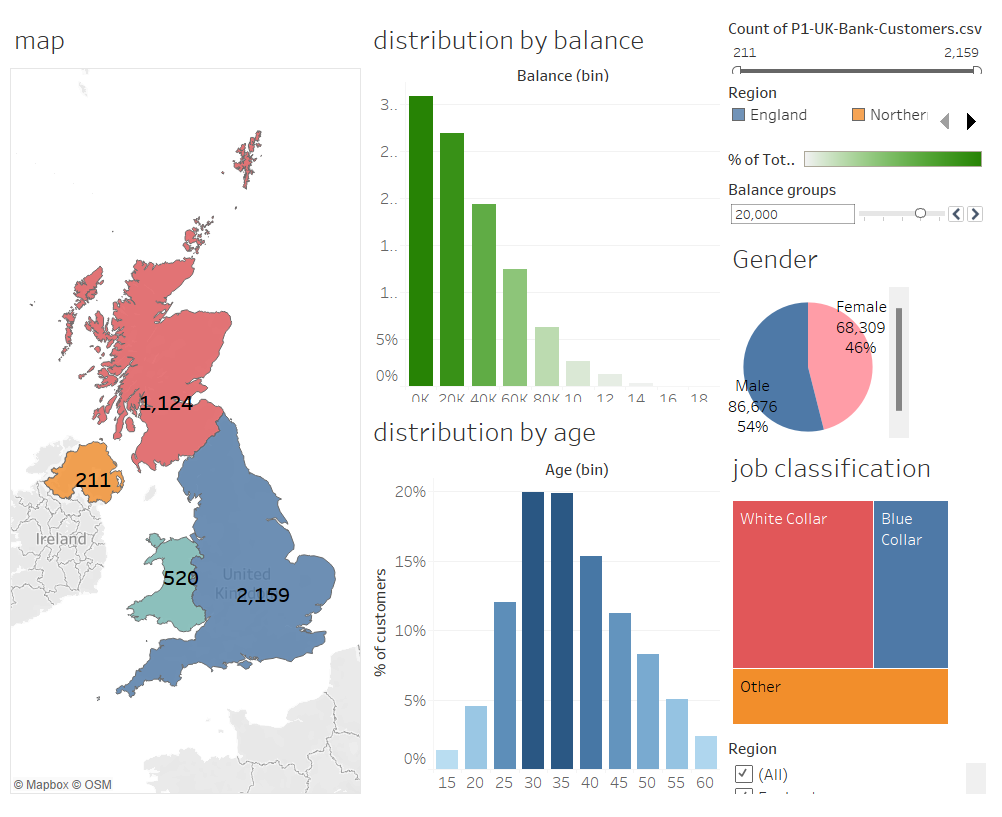

The page's visual inventory and layout, read from the dashboard file:
{"tool":"tableau","page":{"name":"Segmentation dashboard","canvas":[1000,800],"ordinal":1},"visuals":[{"type":"worksheet","title":"map","mark":"Multipolygon","box":[8,8,359,784]},{"type":"worksheet","title":"distribution by balance","mark":"Automatic","rows":["P1-UK-Bank-Customers.csv_1E92CFAD76E748B6976B7EFB826795CE"],"cols":["Balance (bin)"],"box":[367,8,359,392]},{"type":"filter","title":"map","param":"[federated.0wzc7gw1cqfquk14i0ci20qqq00d].[__tableau_internal_object_id__].[cnt:P","box":[726,8,266,64.3]},{"type":"legend","title":"map","param":"[federated.0wzc7gw1cqfquk14i0ci20qqq00d].[none:Region:nk]","box":[726,72.3,266,64.3]},{"type":"legend","title":"distribution by balance","param":"[federated.0wzc7gw1cqfquk14i0ci20qqq00d].[__tableau_internal_object_id__].[pcto:","box":[726,136.7,266,32]},{"type":"parameter","param":"[Parameters].[Parameter 1]","box":[726,168.7,266,58]},{"type":"worksheet","title":"Gender","mark":"Pie","box":[726,226.7,266,209]},{"type":"worksheet","title":"distribution by age","mark":"Bar","rows":["P1-UK-Bank-Customers.csv_1E92CFAD76E748B6976B7EFB826795CE"],"cols":["Age (bin)"],"box":[367,400,359,392]},{"type":"worksheet","title":"job classification","mark":"Automatic","box":[726,435.7,266,292]},{"type":"filter","title":"map","param":"[federated.0wzc7gw1cqfquk14i0ci20qqq00d].[none:Region:nk]","box":[726,727.7,266,64.3]}]}

Visuals, with their boxes in screenshot pixels (x1, y1, x2, y2), scaled from the page's 1000x800 canvas onto the 1002x817 screenshot:
"map" worksheet (Multipolygon marks): 8, 8, 368, 809
"distribution by balance" worksheet: 368, 8, 727, 408
"map" filter: 727, 8, 994, 74
"map" legend: 727, 74, 994, 140
"distribution by balance" legend: 727, 140, 994, 172
parameter: 727, 172, 994, 232
"Gender" worksheet (Pie marks): 727, 232, 994, 445
"distribution by age" worksheet (Bar marks): 368, 408, 727, 809
"job classification" worksheet: 727, 445, 994, 743
"map" filter: 727, 743, 994, 809
